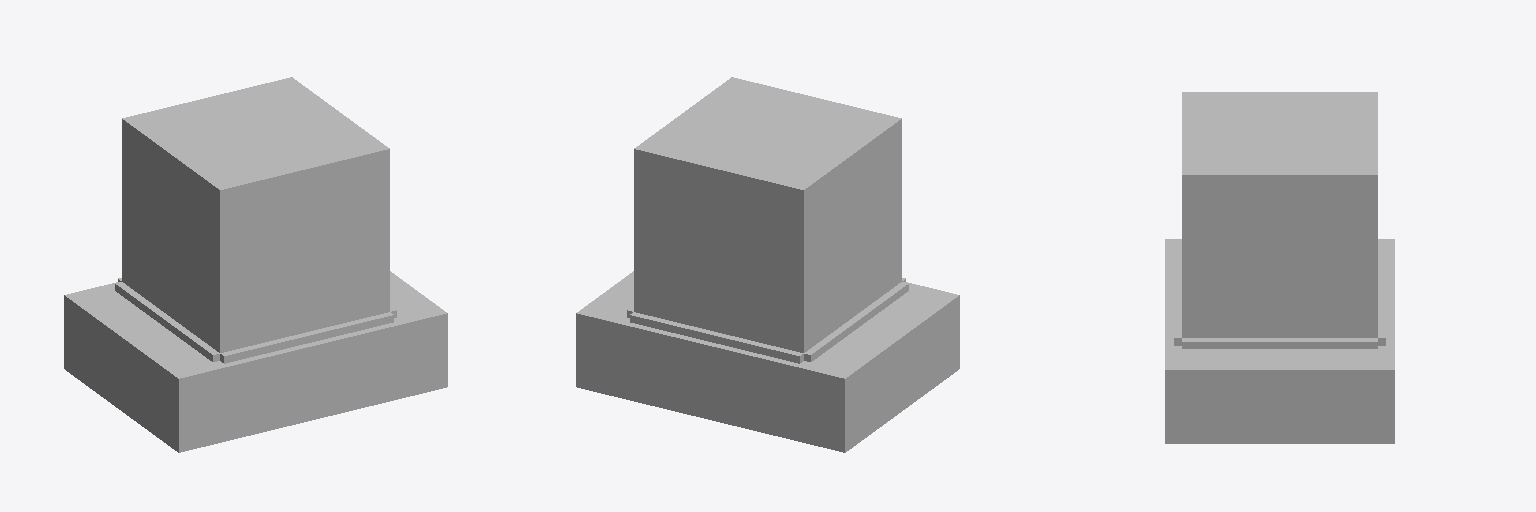
The model's file is buisson avec un bloc.obj.
The picture shows the model from 3 angles: view 1: azimuth 30°, elevation 25°; view 2: azimuth 150°, elevation 25°; view 3: azimuth 270°, elevation 25°; orthographic projection.
Parts seen in each view (by area): view 1: object 1; view 2: object 1; view 3: object 1.
Boxes of the visible parts, x1,y1,x2,y2 form: object 1: [64, 77, 447, 452]; object 1: [576, 77, 959, 452]; object 1: [1165, 92, 1394, 443].
Size of the model in its own units: 3.8 by 3.3 by 2.8.